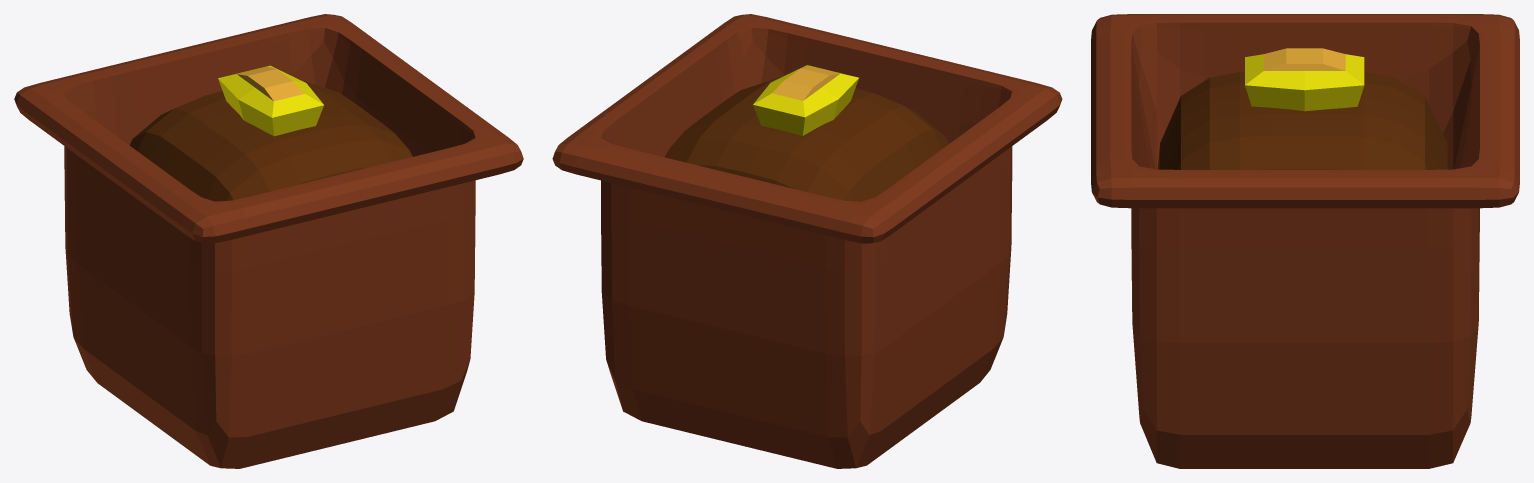
Rendered from c_pot.fbx.
3 views of the same model, side by side, from view 1: azimuth 30°, elevation 25°; view 2: azimuth 150°, elevation 25°; view 3: azimuth 270°, elevation 25° (orthographic). The views are drawn at different scales.
Visible parts, largest first — view 1: Pot with dirt, dirt, Cube; view 2: Pot with dirt, dirt, Cube; view 3: Pot with dirt, dirt, Cube.
Boxes of the visible parts, x1,y1,x2,y2 form: Pot with dirt: (14,14,523,468); dirt: (129,80,412,201); Cube: (218,65,323,136); Pot with dirt: (552,14,1062,468); dirt: (665,76,948,201); Cube: (753,65,858,135); Pot with dirt: (1091,14,1519,468); dirt: (1157,71,1450,169); Cube: (1245,48,1364,111).
Bounding box in the file's own units: 308 × 288 × 314.
